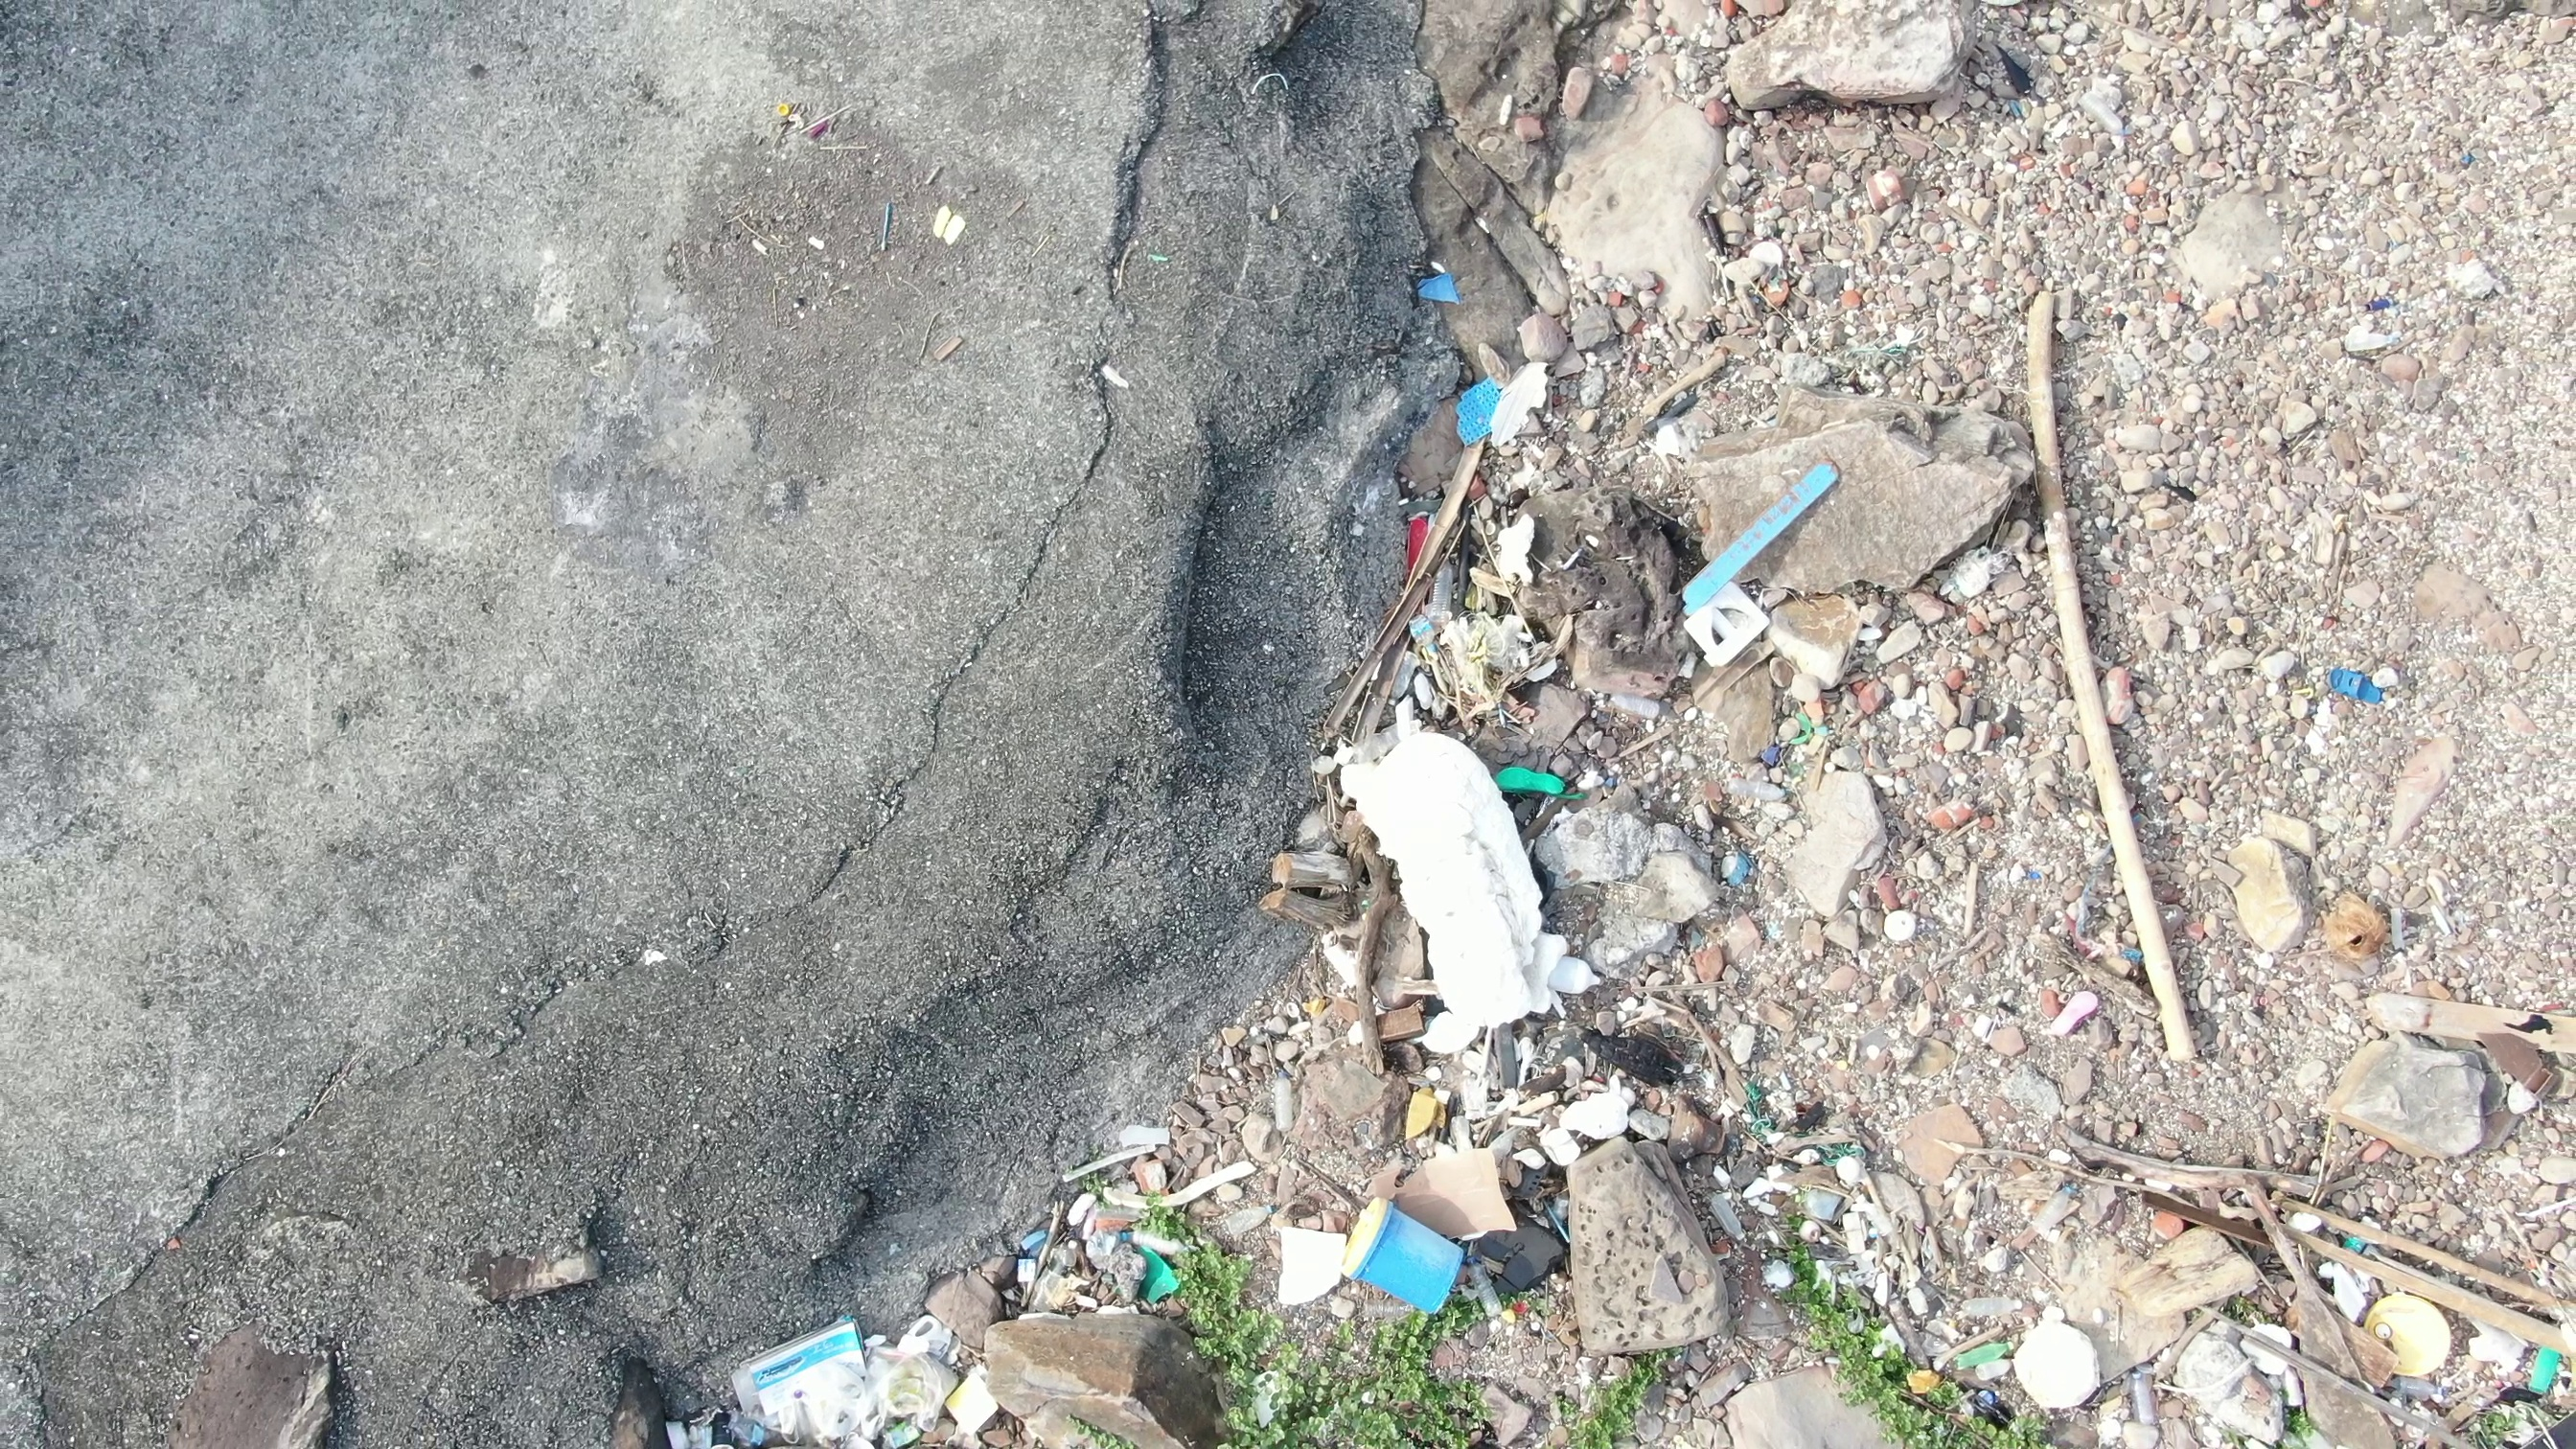garbage: (1323, 258, 1621, 1074), (667, 1161, 1499, 1449), (1684, 446, 1861, 665), (1890, 1318, 2051, 1430), (1697, 731, 1803, 897), (2341, 1253, 2456, 1401), (1723, 1077, 1861, 1177), (1470, 1198, 1599, 1299), (2319, 651, 2397, 718), (2509, 1343, 2572, 1419)
